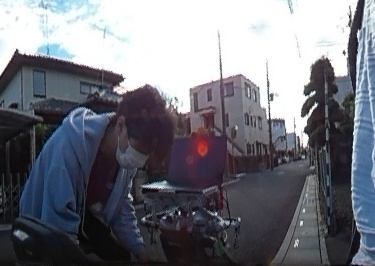person: (11, 84, 176, 248)
